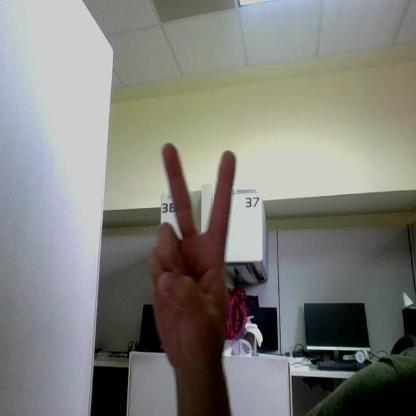V: (148, 144, 234, 360)
